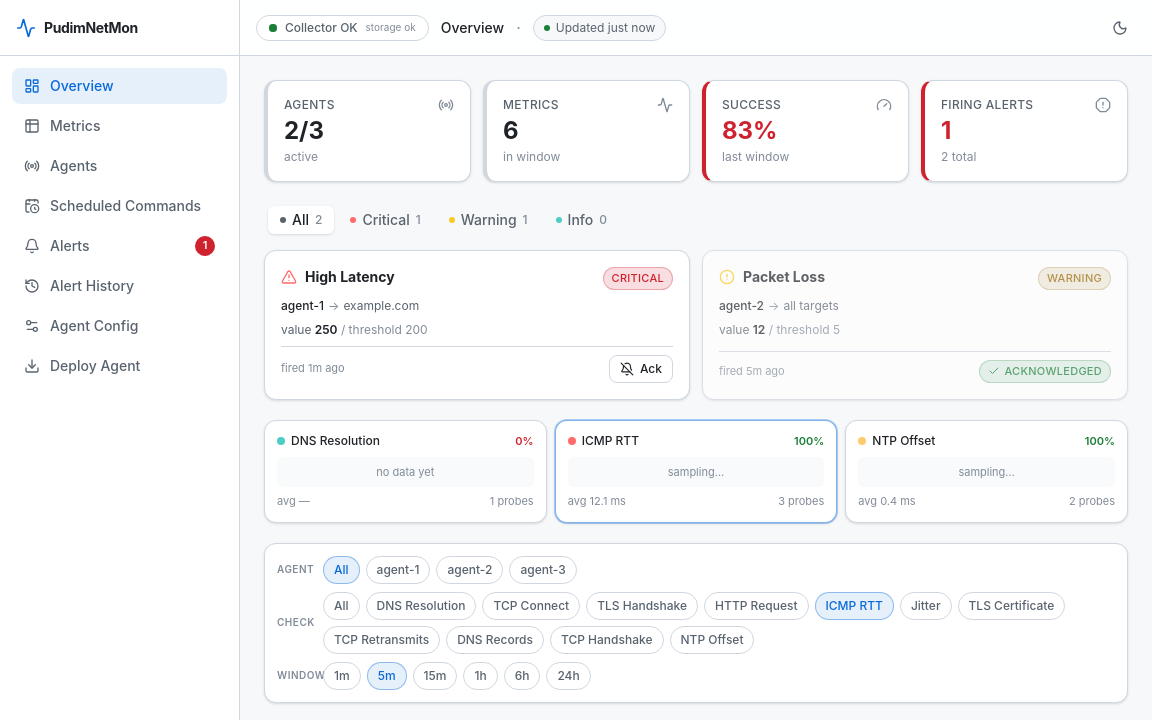
Test: PudimNetMon dashboard › sorts the metrics table by value
Click the button "Metrics". click: (120, 126)
box: [12,108,227,144]
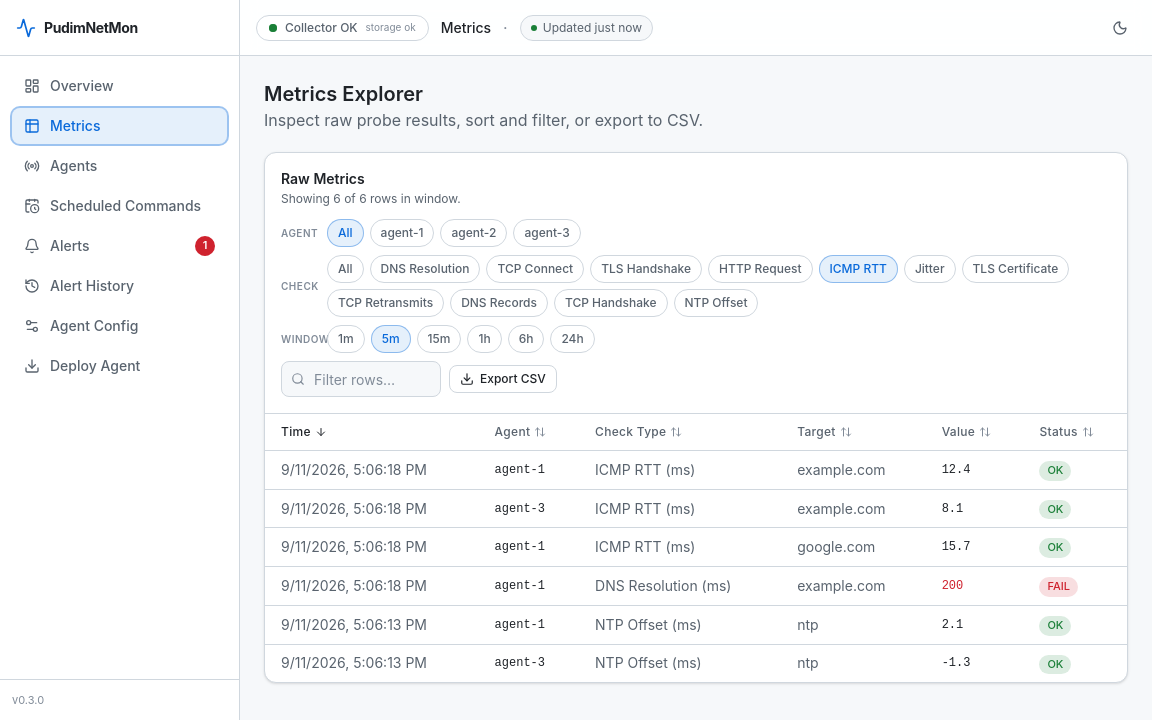
Click the button "Value". click: (966, 432)
box: [942,424,991,440]
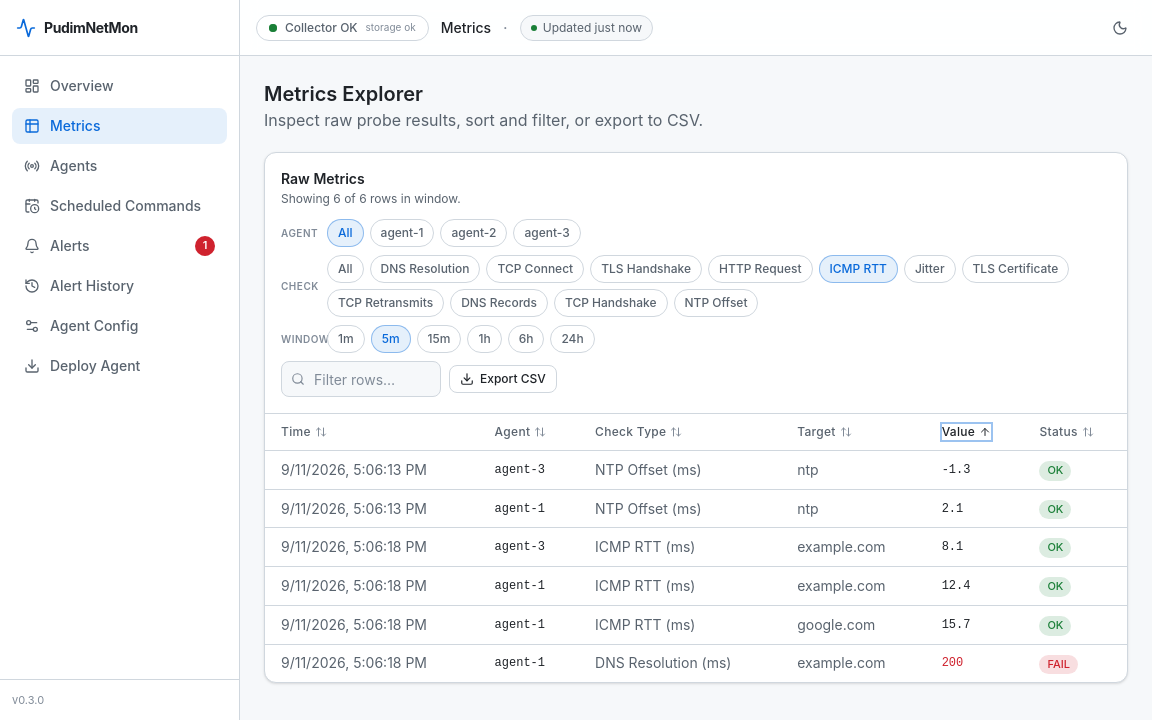
Expected: the row "9/11/2026, 5:06:13 PM agent-3 NTP Offset (ms) ntp -1.3 OK" is shown, [265,450,1127,489]
